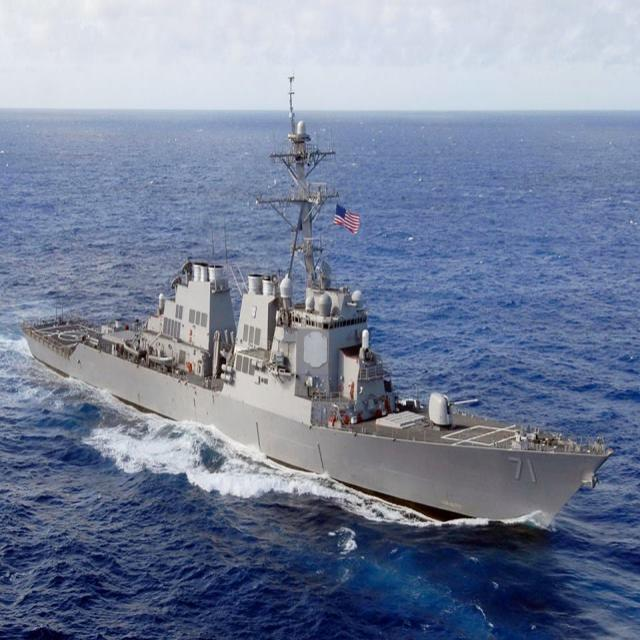navalvessels: (33, 82, 596, 539)
